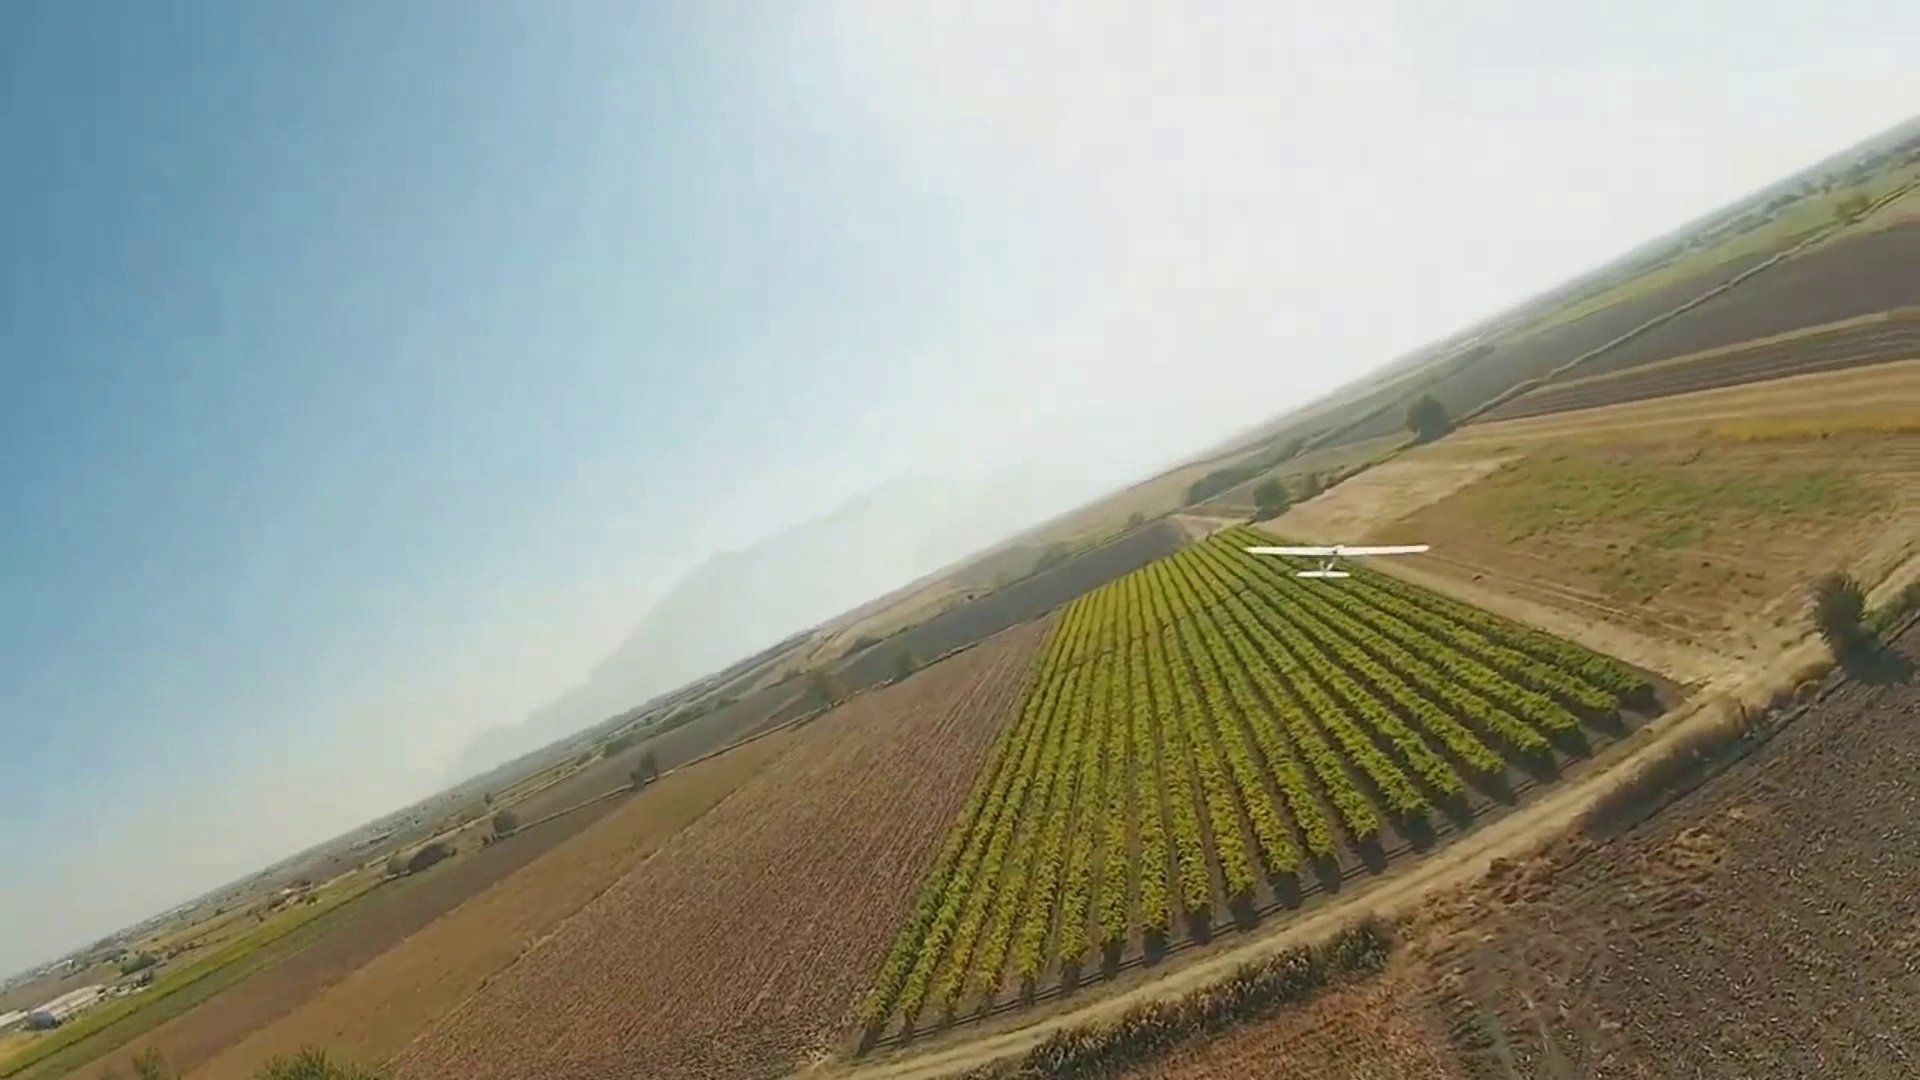airplane: (12, 109, 1920, 1050)
